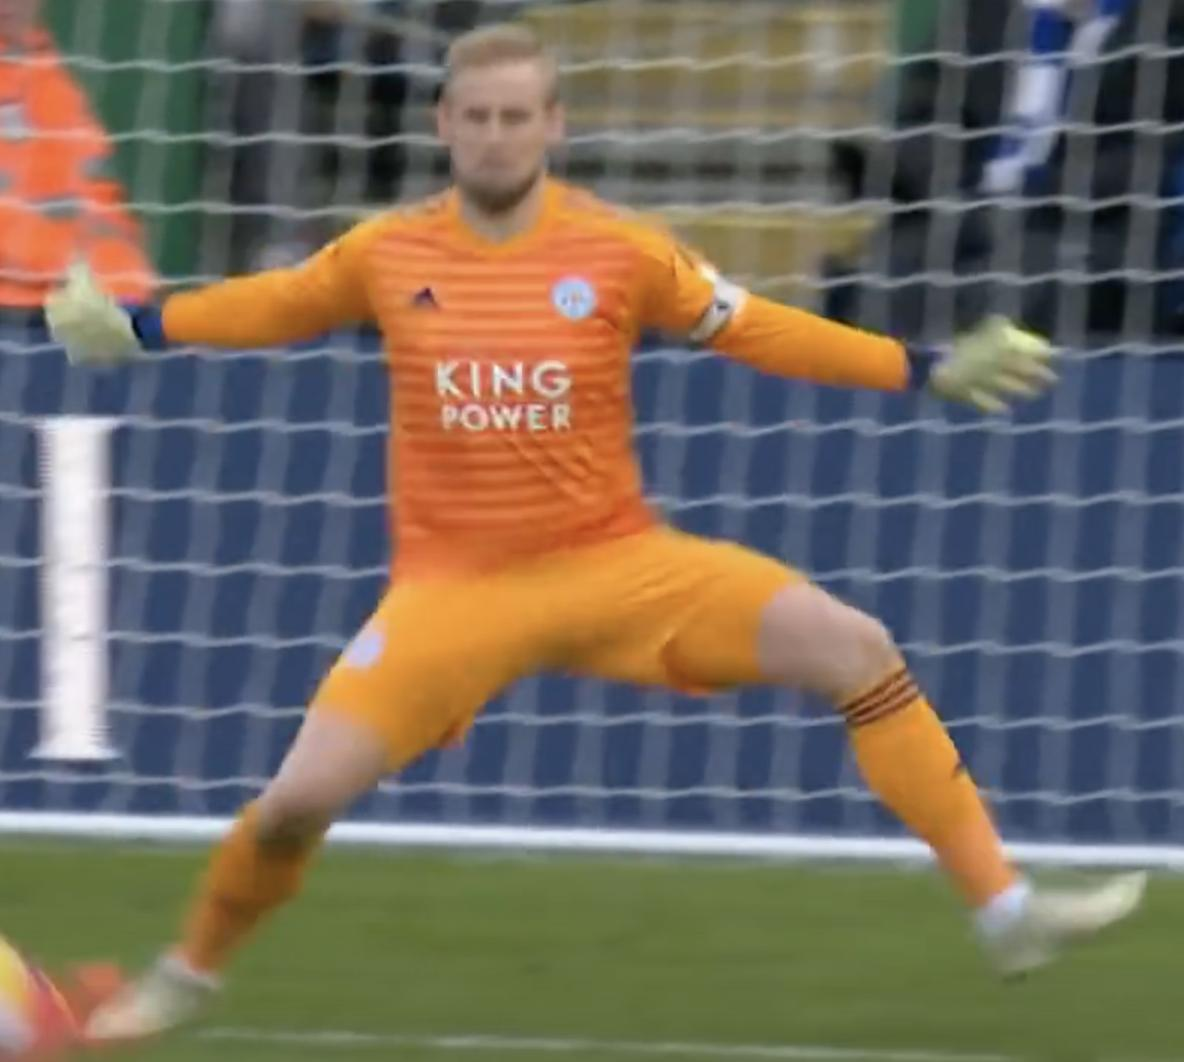goalkeeper: (33, 5, 1184, 1062)
